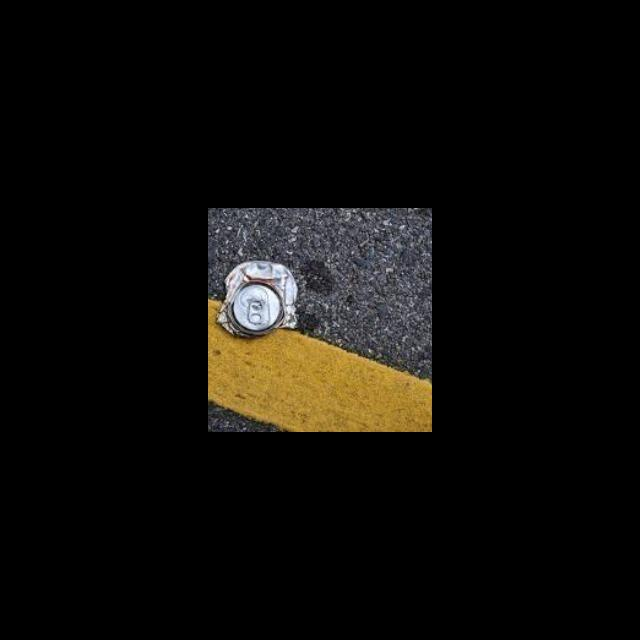metal: (219, 257, 305, 342)
